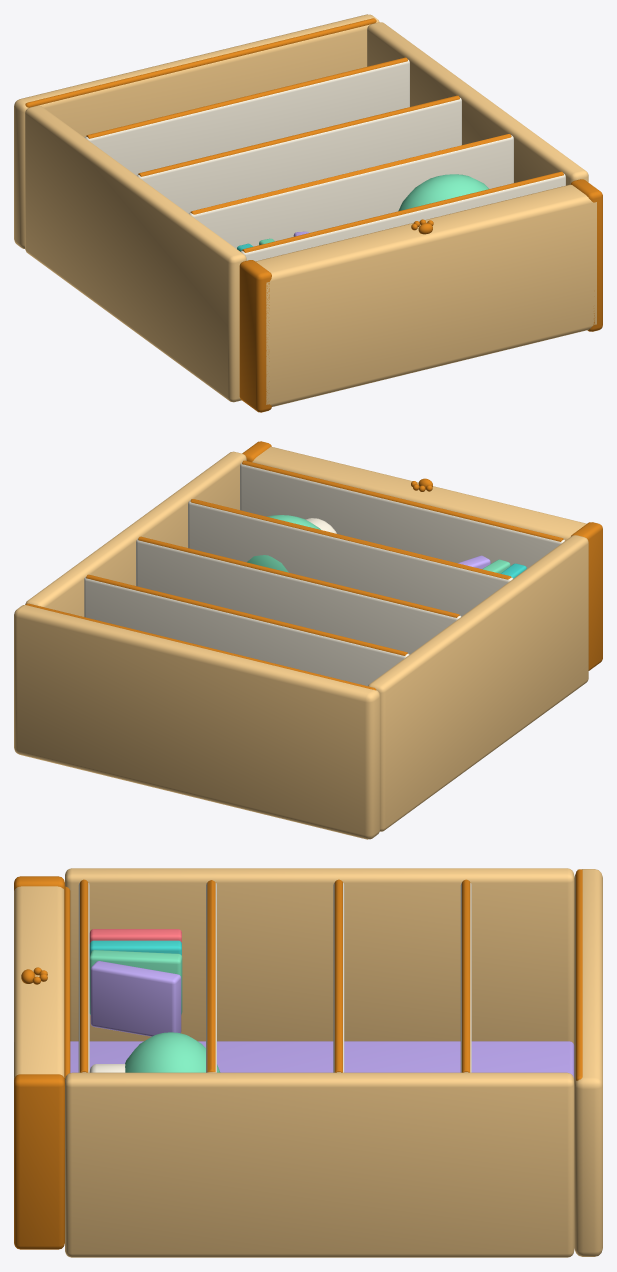
File: TallBookshelf_Premium.fbx
The picture shows the model from 3 angles, top to bottom: view 1: azimuth 30°, elevation 25°; view 2: azimuth 150°, elevation 25°; view 3: azimuth 270°, elevation 25°; orthographic projection. The views are drawn at different scales.
Parts seen in each view (by area): view 1: TallBookshelf; view 2: TallBookshelf; view 3: TallBookshelf.
Boxes of the visible parts, x1,y1,x2,y2 form: TallBookshelf: (14,14,602,412); TallBookshelf: (14,441,602,839); TallBookshelf: (14,868,602,1257).
Bounding box in the file's own units: 1.6 × 0.6305 × 1.85.
